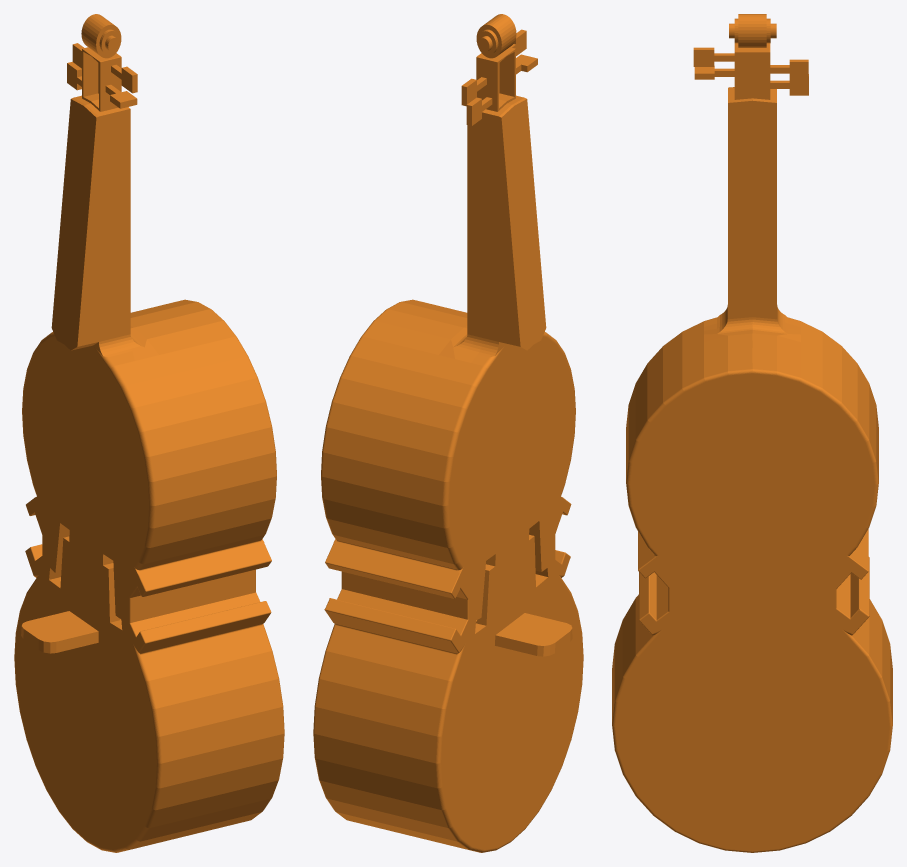
File: Cello.glb
3 renders of one model, left to right at view 1: azimuth 30°, elevation 25°; view 2: azimuth 150°, elevation 25°; view 3: azimuth 270°, elevation 25°, orthographic. The views are drawn at different scales.
Visible parts, largest first — view 1: Cube, Cylinder; view 2: Cube, Cylinder; view 3: Cube, Cylinder.
Part boxes in pixels (x1,y1,x2,y2): Cube: (14, 43, 284, 852); Cylinder: (81, 14, 121, 58); Cube: (313, 29, 583, 852); Cylinder: (476, 14, 516, 58); Cube: (612, 43, 892, 852); Cylinder: (729, 14, 776, 47).
Size of the model in its own units: 1.42 by 6.18 by 2.
